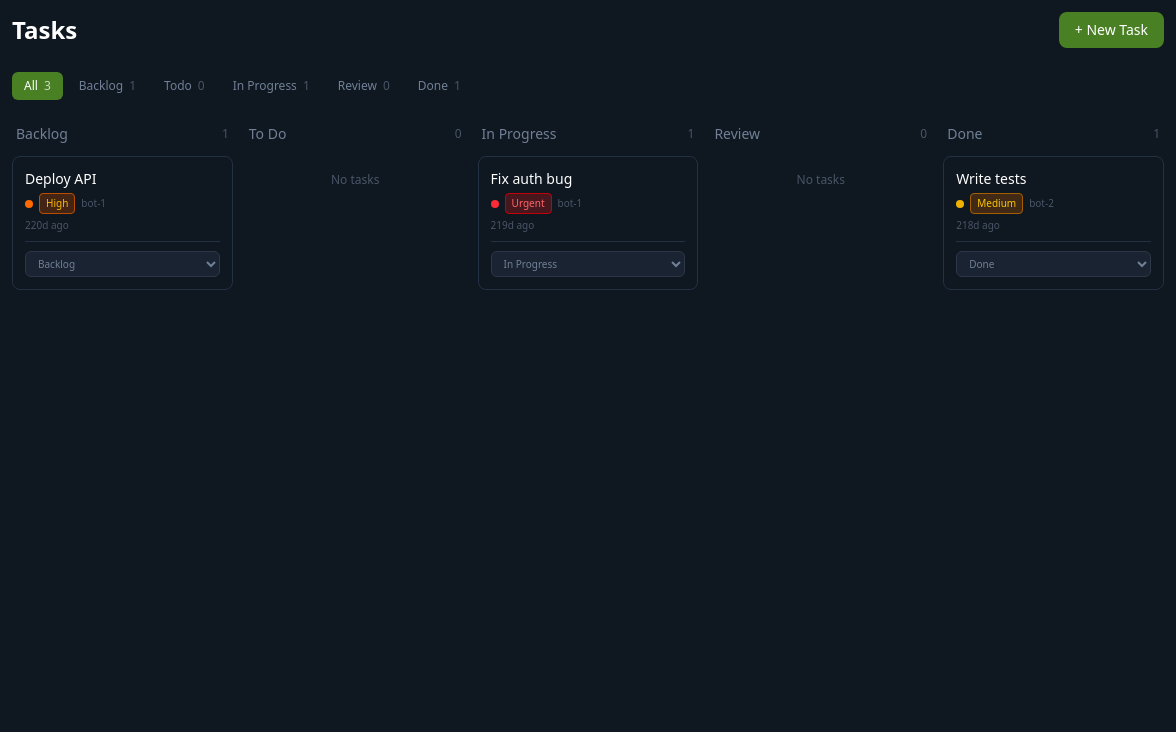
Test: TaskBoardClient › shows an error toast, not a silent no-op, when creating a task fails
The image size is (1176, 732).
Expected: the number of elements with test id "task-card" is 3, [12, 156, 233, 290]; [478, 156, 698, 290]; [943, 156, 1164, 290]
Click the button "+ New Task".
click(1111, 30)  # box [1059, 12, 1164, 48]
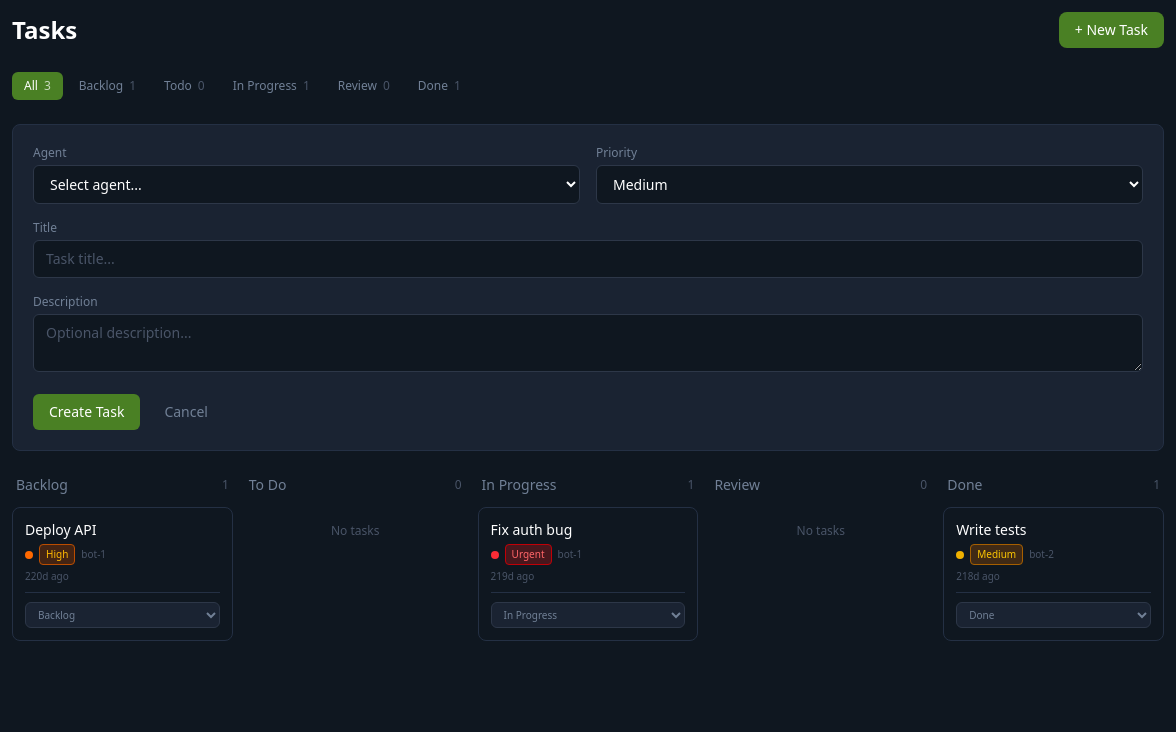
Select "Bot One" in the dropdown below "Agent" at (306, 184), box [33, 165, 580, 204]
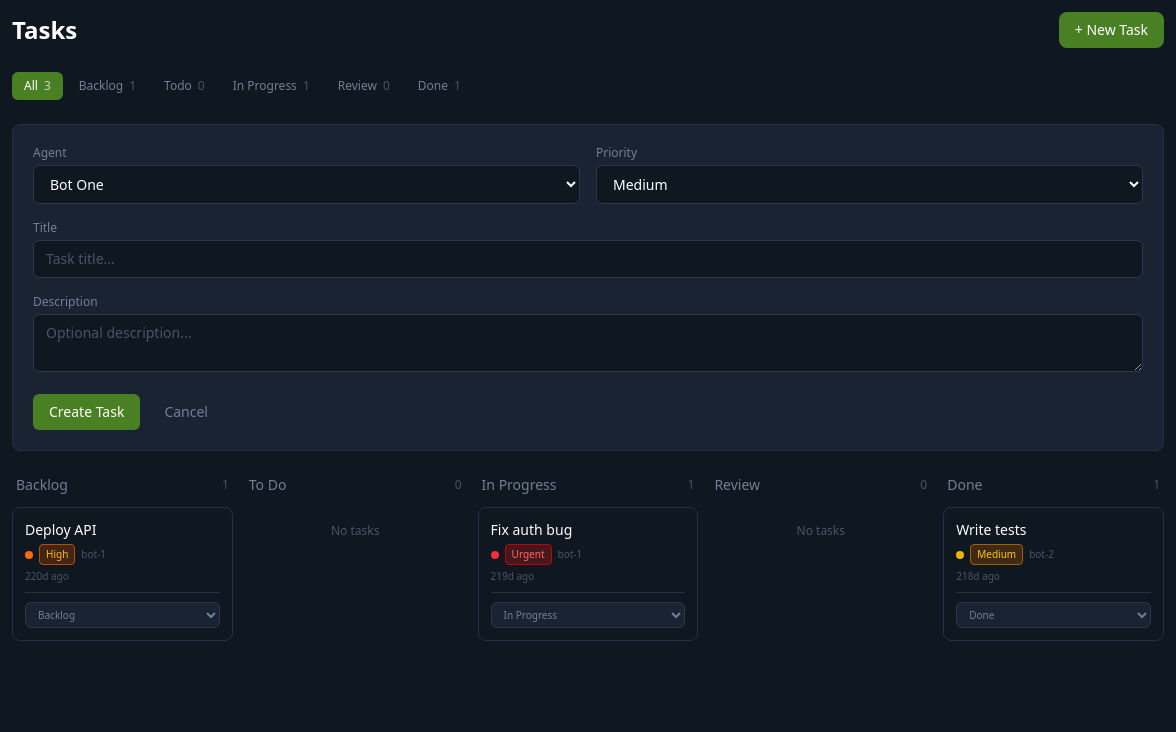
Type "Broken Task" into the field with placeholder "Task title...".
click(588, 259); type("Broken Task")  # box [33, 240, 1143, 278]
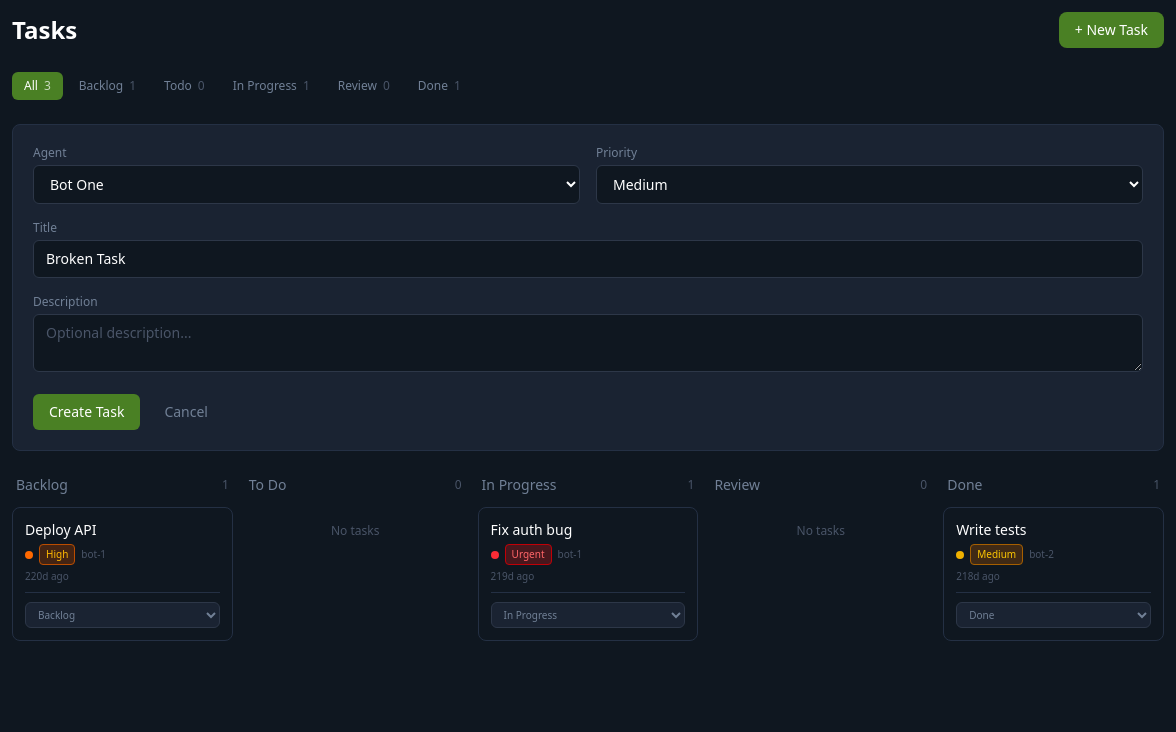
Click the button "Create Task".
click(87, 412)  # box [33, 394, 140, 430]
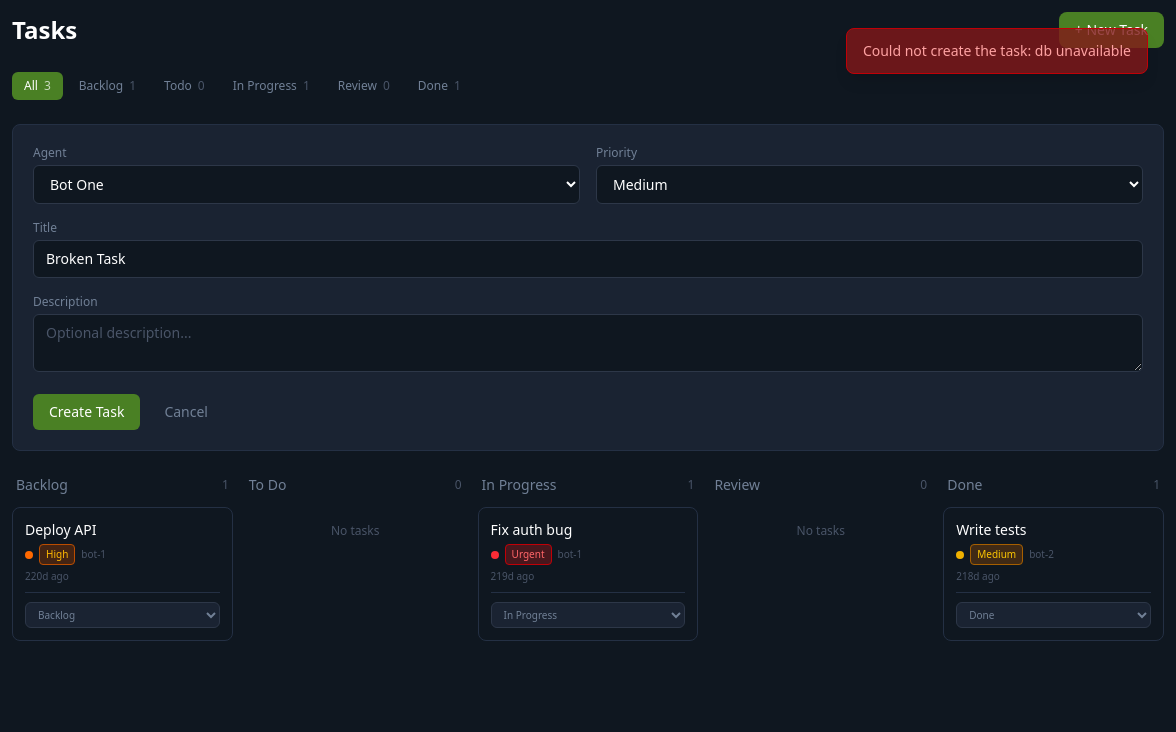
Expected: the number of elements with test id "task-card" is 3, [12, 507, 233, 641]; [478, 507, 698, 641]; [943, 507, 1164, 641]
Now the form with test id "new-task-form" is shown, box [12, 124, 1164, 451]
Now the message with test id "toast-error" reads "Could not create the task: db unavailable", box [863, 41, 1131, 60]
